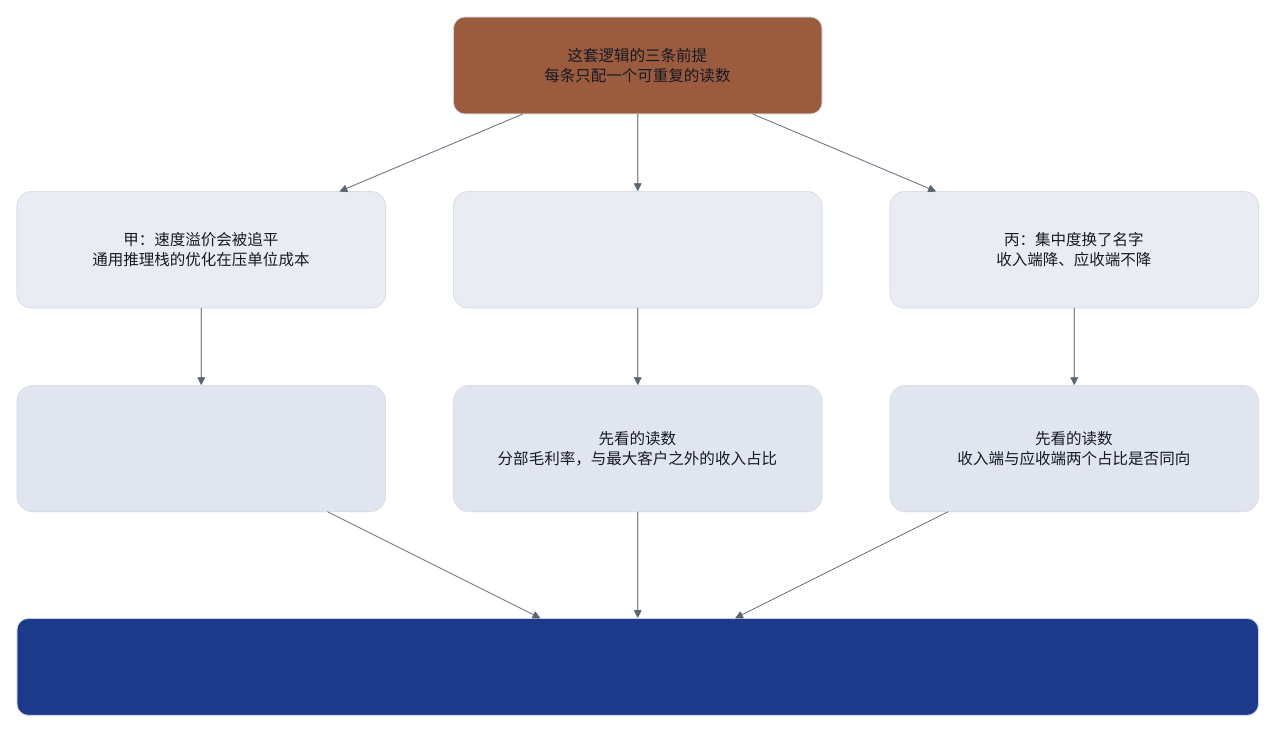
Image size: 1276x732. Some labels were removed from this diagram. Here are the shapes that lost their labels. From the top down, the box of each, then its label:
(453, 191, 822, 308): 乙：价格战打穿毛利 同一份权重人人可托管，下限是电力加折旧
(16, 385, 386, 512): 先看的读数 同一取数日重算：速度比与价格比是否收敛
(16, 617, 1259, 715): 三环断一环，估值就只是叙事 速度只是收入的形式：能不能变成钱，看单位成本、可比性与资本开支由谁承担
